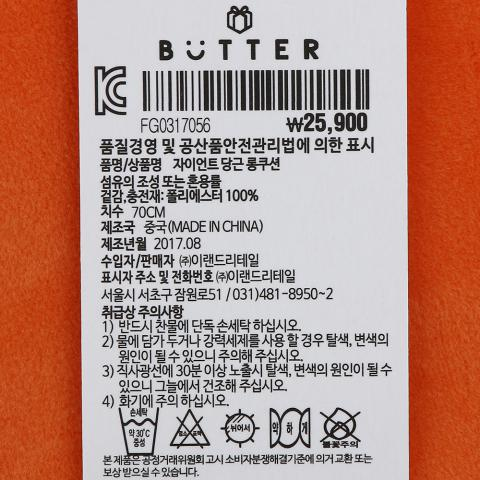dry_flat_in_shade: (221, 409, 259, 450)
hand_wash: (118, 406, 165, 457)
non_chlorine_bleach: (169, 404, 213, 452)
wring: (264, 401, 321, 450)
